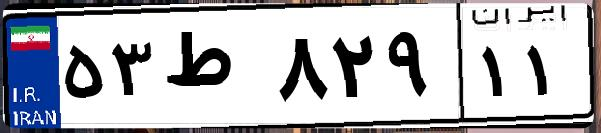1: (475, 38, 525, 113), (525, 38, 570, 115)
2: (330, 28, 385, 110)
3: (110, 28, 158, 98)
5: (57, 26, 110, 100)
8: (270, 28, 330, 110)
9: (385, 28, 445, 110)
ط: (158, 20, 270, 120)
